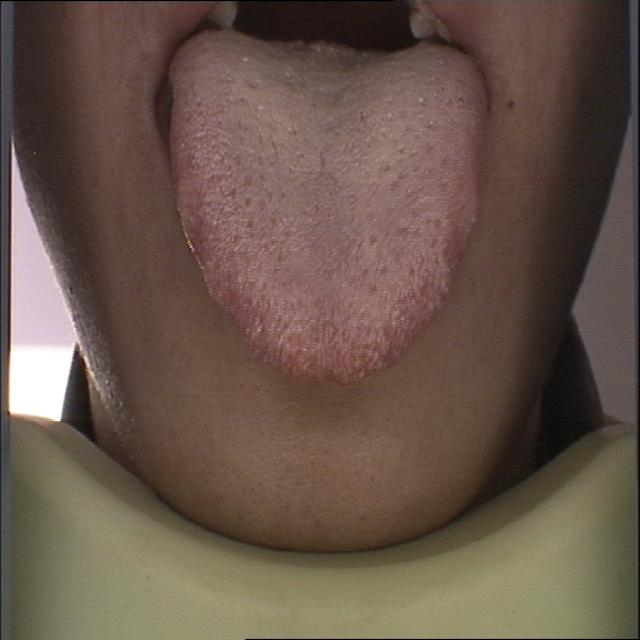tongue: (157, 22, 500, 384)
